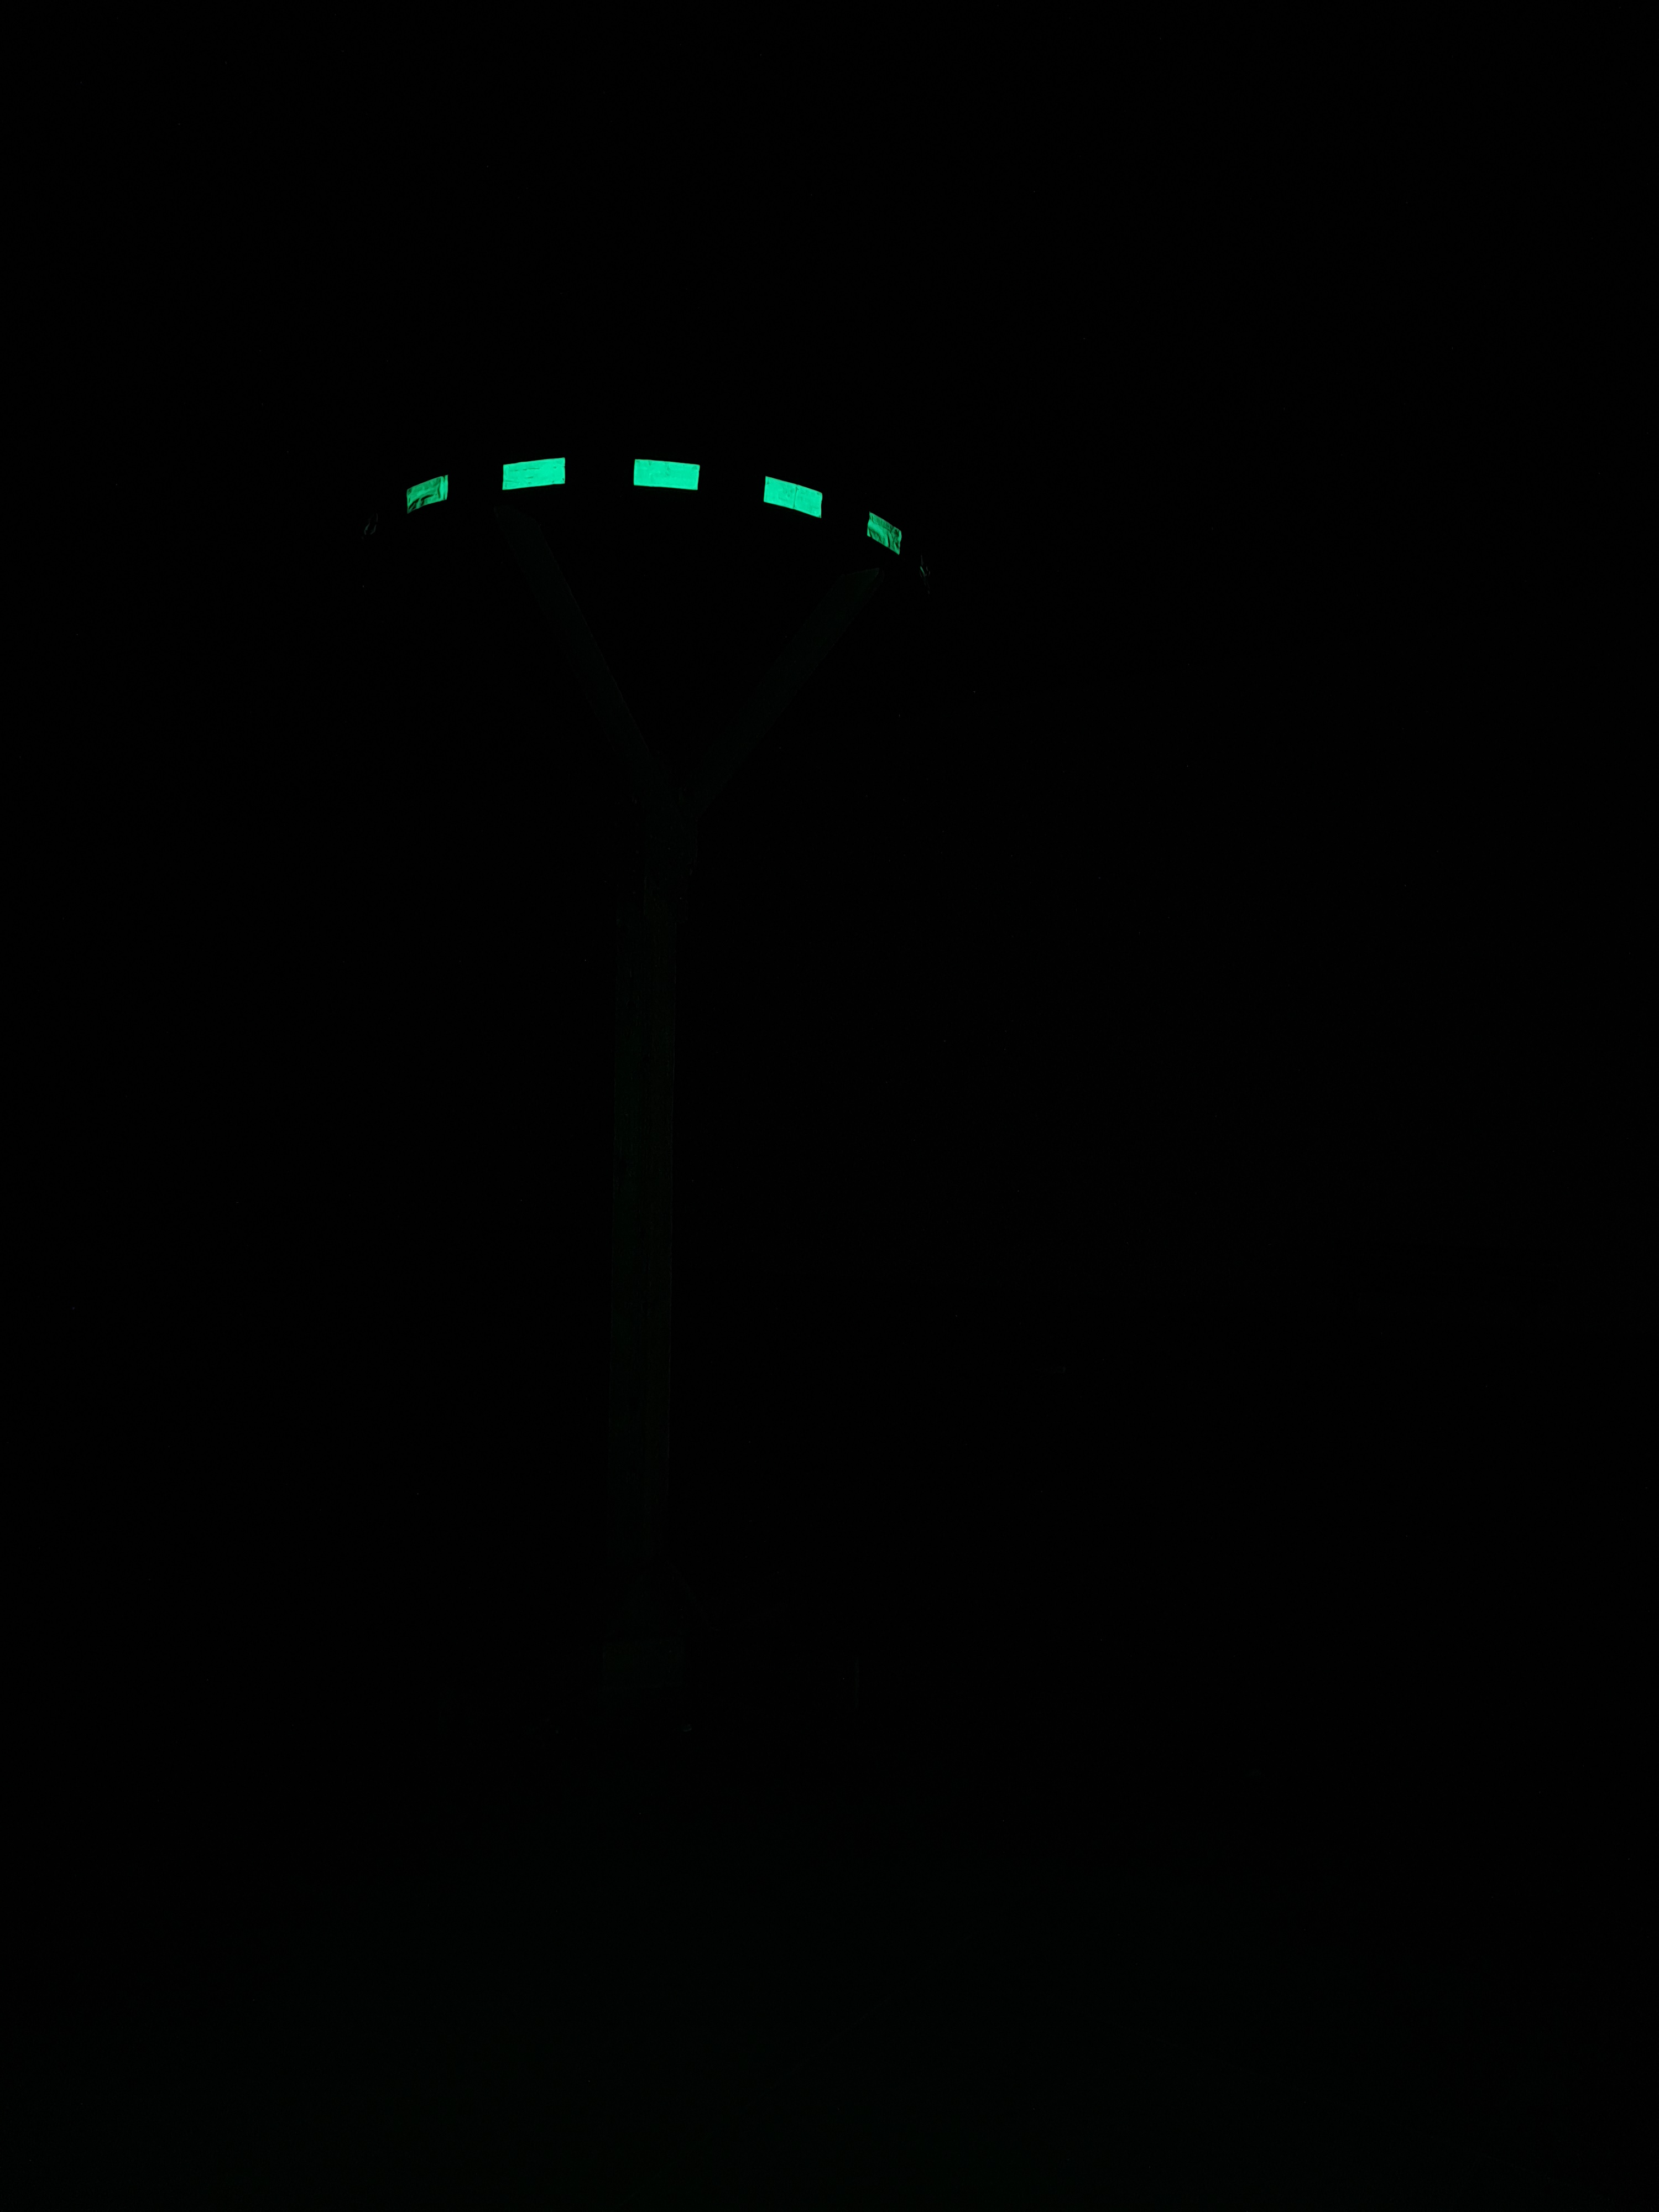hoop: (404, 451, 904, 559)
